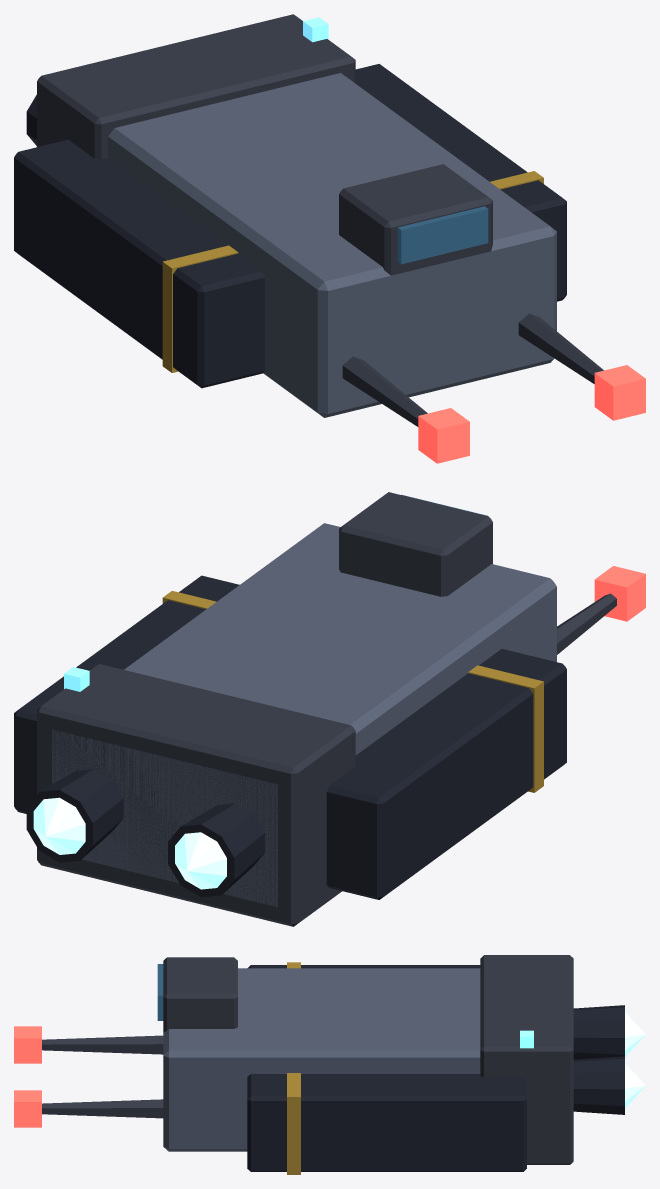
The model's file is barge.glb.
The picture shows the model from 3 angles, top to bottom: view 1: azimuth 30°, elevation 25°; view 2: azimuth 150°, elevation 25°; view 3: azimuth 270°, elevation 25°; orthographic projection. The views are drawn at different scales.
Visible parts, largest first — view 1: barge; view 2: barge; view 3: barge.
Boxes of the visible parts, x1,y1,x2,y2 form: barge: (14, 14, 645, 463); barge: (14, 492, 645, 926); barge: (14, 955, 645, 1174).
Bounding box in the file's own units: 3.42 × 1.7 × 6.78.
1 material, 1 textured.
